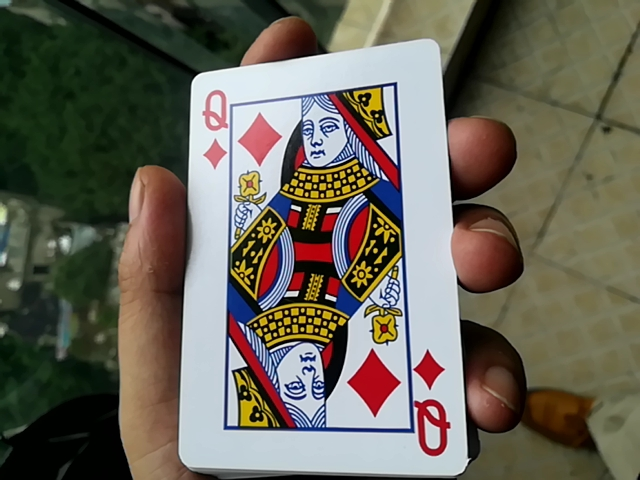fk q: (167, 26, 472, 470)
